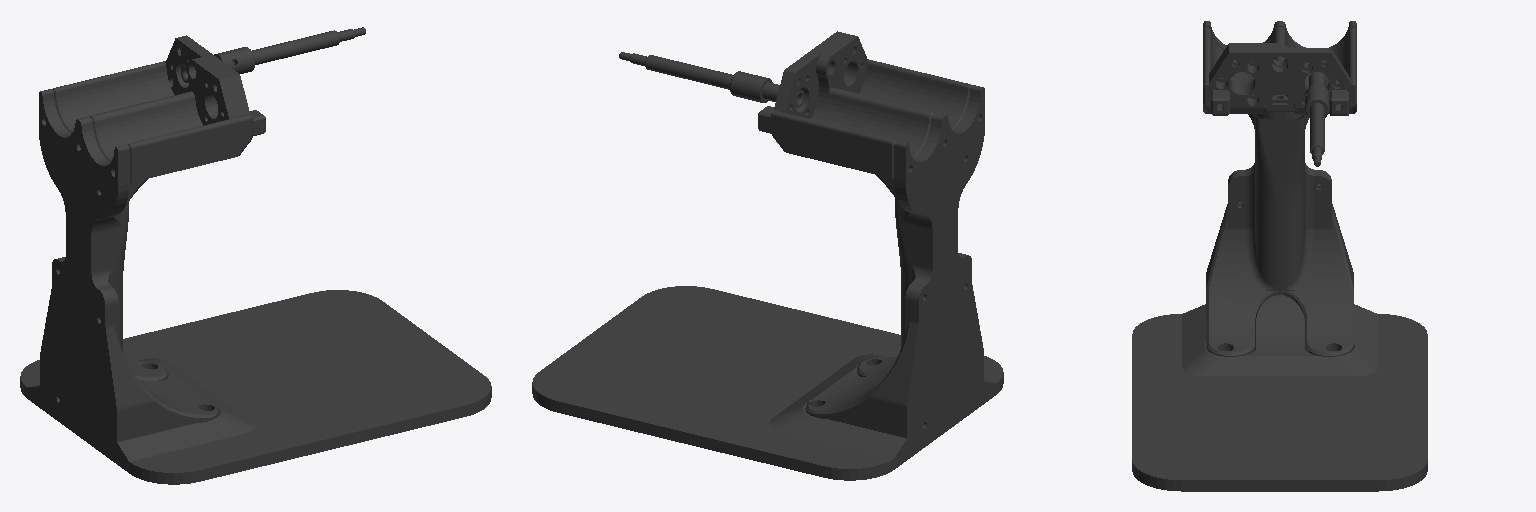
URDF robot description (final_collision_export):
<?xml version="1.0" encoding="utf-8"?>
<!-- This URDF was automatically created by SolidWorks to URDF Exporter! Originally created by [author] ([email redacted]) 
     Commit Version: 1.6.0-1-g15f4949  Build Version: 1.6.7594.29634
     For more information, please see http://wiki.ros.org/sw_urdf_exporter -->
<robot
  name="final_collision_export">
  <link
    name="base_link">
    <inertial>
      <origin
        xyz="0.04648 0.060332 0.047859"
        rpy="0 0 0" />
      <mass
        value="0.24153" />
      <inertia
        ixx="0.00030589"
        ixy="3.981E-07"
        ixz="3.2058E-06"
        iyy="0.00038626"
        iyz="9.7199E-08"
        izz="0.00038359" />
    </inertial>
    <visual>
      <origin
        xyz="0 0 0"
        rpy="0 0 0" />
      <geometry>
        <mesh
          filename="package://final_collision_export/meshes/base_link.STL" />
      </geometry>
      <material
        name="">
        <color
          rgba="0.29804 0.29804 0.29804 1" />
      </material>
    </visual>
    <collision>
      <origin
        xyz="0 0 0"
        rpy="0 0 0" />
      <geometry>
        <mesh
          filename="package://final_collision_export/meshes/base_link.STL" />
      </geometry>
    </collision>
  </link>
  <link
    name="pitch_link">
    <inertial>
      <origin
        xyz="6.0777E-11 -0.0063557 -1.3583E-09"
        rpy="0 0 0" />
      <mass
        value="0.0054988" />
      <inertia
        ixx="1.9103E-07"
        ixy="-1.6034E-14"
        ixz="-7.2936E-12"
        iyy="8.75E-07"
        iyz="-2.6183E-15"
        izz="9.7567E-07" />
    </inertial>
    <visual>
      <origin
        xyz="0 0 0"
        rpy="0 0 0" />
      <geometry>
        <mesh
          filename="package://final_collision_export/meshes/pitch_link.STL" />
      </geometry>
      <material
        name="">
        <color
          rgba="0.29804 0.29804 0.29804 1" />
      </material>
    </visual>
    <collision>
      <origin
        xyz="0 0 0"
        rpy="0 0 0" />
      <geometry>
        <mesh
          filename="package://final_collision_export/meshes/pitch_link.STL" />
      </geometry>
    </collision>
  </link>
  <joint
    name="Pitch"
    type="revolute">
    <origin
      xyz="0.096806 0.060005 0.15025"
      rpy="-1.5708 0 1.5708" />
    <parent
      link="base_link" />
    <child
      link="pitch_link" />
    <axis
      xyz="0 0 -1" />
    <limit
      lower="0"
      upper="0"
      effort="0"
      velocity="0" />
  </joint>
  <link
    name="yaw_link">
    <inertial>
      <origin
        xyz="-3.999E-05 -8.3267E-17 0.063923"
        rpy="0 0 0" />
      <mass
        value="0.013171" />
      <inertia
        ixx="4.8033E-07"
        ixy="5.5554E-11"
        ixz="-8.1339E-21"
        iyy="4.521E-07"
        iyz="5.6248E-23"
        izz="3.2054E-07" />
    </inertial>
    <visual>
      <origin
        xyz="0 0 0"
        rpy="0 0 0" />
      <geometry>
        <mesh
          filename="package://final_collision_export/meshes/yaw_link.STL" />
      </geometry>
      <material
        name="">
        <color
          rgba="0.52941 0.54902 0.54902 1" />
      </material>
    </visual>
    <collision>
      <origin
        xyz="0 0 0"
        rpy="0 0 0" />
      <geometry>
        <mesh
          filename="package://final_collision_export/meshes/yaw_link.STL" />
      </geometry>
    </collision>
  </link>
  <joint
    name="Yaw"
    type="revolute">
    <origin
      xyz="0 0.050079 3.999E-05"
      rpy="1.5708 -1.5708 0" />
    <parent
      link="pitch_link" />
    <child
      link="yaw_link" />
    <axis
      xyz="0 0 -1" />
    <limit
      lower="0"
      upper="0"
      effort="0"
      velocity="0" />
  </joint>
  <link
    name="extension_link">
    <inertial>
      <origin
        xyz="3.0839E-06 0.041649 -0.11557"
        rpy="0 0 0" />
      <mass
        value="0.10725" />
      <inertia
        ixx="0.0001763"
        ixy="-3.429E-08"
        ixz="4.6793E-08"
        iyy="0.00014108"
        iyz="2.1234E-05"
        izz="4.1594E-05" />
    </inertial>
    <visual>
      <origin
        xyz="0 0 0"
        rpy="0 0 0" />
      <geometry>
        <mesh
          filename="package://final_collision_export/meshes/extension_link.STL" />
      </geometry>
      <material
        name="">
        <color
          rgba="0.49804 0.49804 0.49804 1" />
      </material>
    </visual>
    <collision>
      <origin
        xyz="0 0 0"
        rpy="0 0 0" />
      <geometry>
        <mesh
          filename="package://final_collision_export/meshes/extension_link.STL" />
      </geometry>
    </collision>
  </link>
  <joint
    name="Extension"
    type="prismatic">
    <origin
      xyz="0 -0.13608 0"
      rpy="1.5708 0 0" />
    <parent
      link="yaw_link" />
    <child
      link="extension_link" />
    <axis
      xyz="0 0 1" />
    <limit
      lower="0"
      upper="0"
      effort="0"
      velocity="0" />
  </joint>
</robot>

--- Facts derived from the render (not from the file) ---
Views: 3 orthographic renders of the robot side by side, from view 1: azimuth 30°, elevation 25°; view 2: azimuth 150°, elevation 25°; view 3: azimuth 270°, elevation 25°.
Model final_collision_export with 4 links and 3 joints (2 revolute, 1 prismatic), rooted at base_link, posed all joints at 0.
Links seen in each view (by area): view 1: base_link; view 2: base_link; view 3: base_link.
Link boxes in pixels (bbox=[...]): base_link: bbox=[20, 27, 491, 484]; base_link: bbox=[532, 31, 1003, 480]; base_link: bbox=[1132, 21, 1427, 491].
Size in the robot's own frame: 0.16 by 0.12 by 0.1503 metres.
1 mesh visuals loaded from 4 distinct referenced files (1 binary STL); not drawn: 3 (reference not matched to a file when rendering).